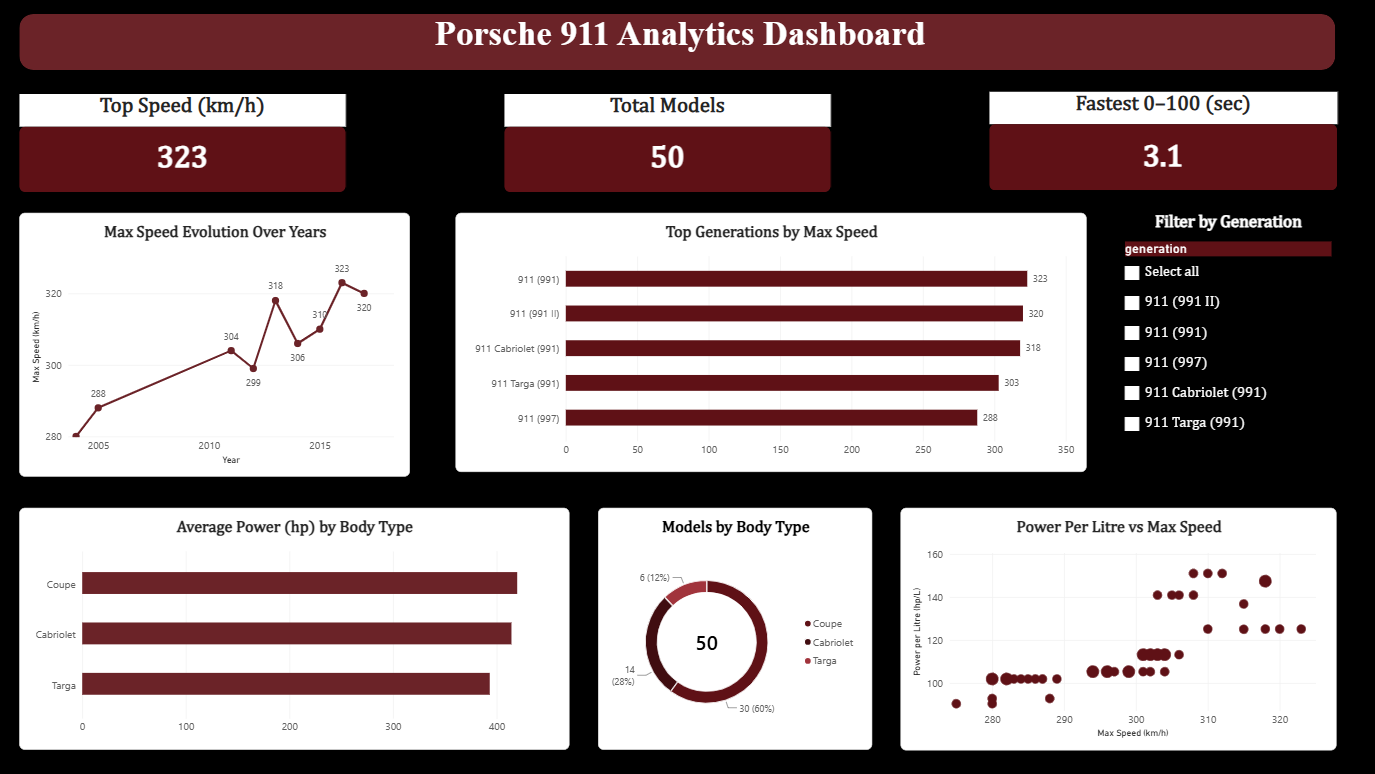

The page's visual inventory and layout, read from the dashboard file:
{"tool":"powerbi","page":{"name":"Dashboard","canvas":[1920,1080],"ordinal":1},"visuals":[{"type":"shape","box":[28.8,20.6,1835,78.1],"z":0},{"type":"textbox","box":[164.5,20.6,1575.3,57.6],"z":1000},{"type":"cardVisual","title":"Top Speed (km/h)","fields":{"Data":["Max(porsche_911 (2).maximum_speed)"]},"box":[28.8,131.6,455,137.5],"z":2000},{"type":"cardVisual","title":"Total Models","fields":{"Data":["CountNonNull(porsche_911 (2).generation )"]},"box":[705.4,131.6,455,137.5],"z":2002},{"type":"cardVisual","title":"Fastest 0–100 (sec)","fields":{"Data":["Min(porsche_911 (2).acceleration_0-100km/h)"]},"box":[1382.1,132.5,484.5,134.2],"z":2003},{"type":"lineChart","title":"Max Speed Evolution Over Years","fields":{"Category":["porsche_911 (2).start_of_production"],"Y":["Max(porsche_911 (2).maximum_speed)"]},"box":[28.8,298.2,545,368.1],"z":2004},{"type":"donutChart","title":"Models by Body Type","fields":{"Category":["porsche_911 (2).body_type"],"Y":["CountNonNull(porsche_911 (2).generation )"]},"box":[837,709.5,382.5,337.3],"z":2005},{"type":"clusteredBarChart","title":"Top Generations by Max Speed","fields":{"Category":["porsche_911 (2).generation "],"Y":["Max(porsche_911 (2).maximum_speed)"]},"box":[637.5,298.2,880.2,362],"z":2006},{"type":"slicer","title":"Filter by Generation","fields":{"Values":["porsche_911 (2).generation "]},"box":[1563,298.2,304.4,368],"z":2007},{"type":"scatterChart","title":"Power Per Litre vs Max Speed","fields":{"Size":["Count(porsche_911 (2).generation )"],"X":["porsche_911 (2).maximum_speed"],"Y":["porsche_911 (2).power_per_litre"]},"box":[1258.6,708.8,608,338],"z":2010},{"type":"clusteredBarChart","title":"Average Power (hp) by Body Type","fields":{"Category":["porsche_911 (2).body_type"],"Y":["Avg(porsche_911 (2).power_hp)"]},"box":[28.8,709.5,767.1,337.3],"z":2011}]}

Visuals, with their boxes in screenshot pixels (x1, y1, x2, y2), scaled from the page's 1920x1080 canvas onto the 1375x774 screenshot:
shape: crop(21, 15, 1335, 71)
textbox: crop(118, 15, 1246, 56)
"Top Speed (km/h)" cardVisual: crop(21, 94, 346, 193)
"Total Models" cardVisual: crop(505, 94, 831, 193)
"Fastest 0–100 (sec)" cardVisual: crop(990, 95, 1337, 191)
"Max Speed Evolution Over Years" lineChart: crop(21, 214, 411, 478)
"Models by Body Type" donutChart: crop(599, 508, 873, 750)
"Top Generations by Max Speed" clusteredBarChart: crop(457, 214, 1087, 473)
"Filter by Generation" slicer: crop(1119, 214, 1337, 477)
"Power Per Litre vs Max Speed" scatterChart: crop(901, 508, 1337, 750)
"Average Power (hp) by Body Type" clusteredBarChart: crop(21, 508, 570, 750)
